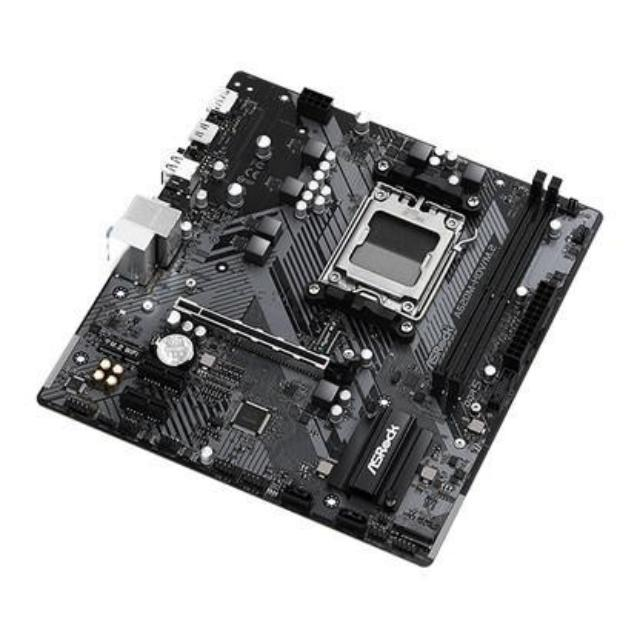Mainboard: (37, 84, 608, 572)
